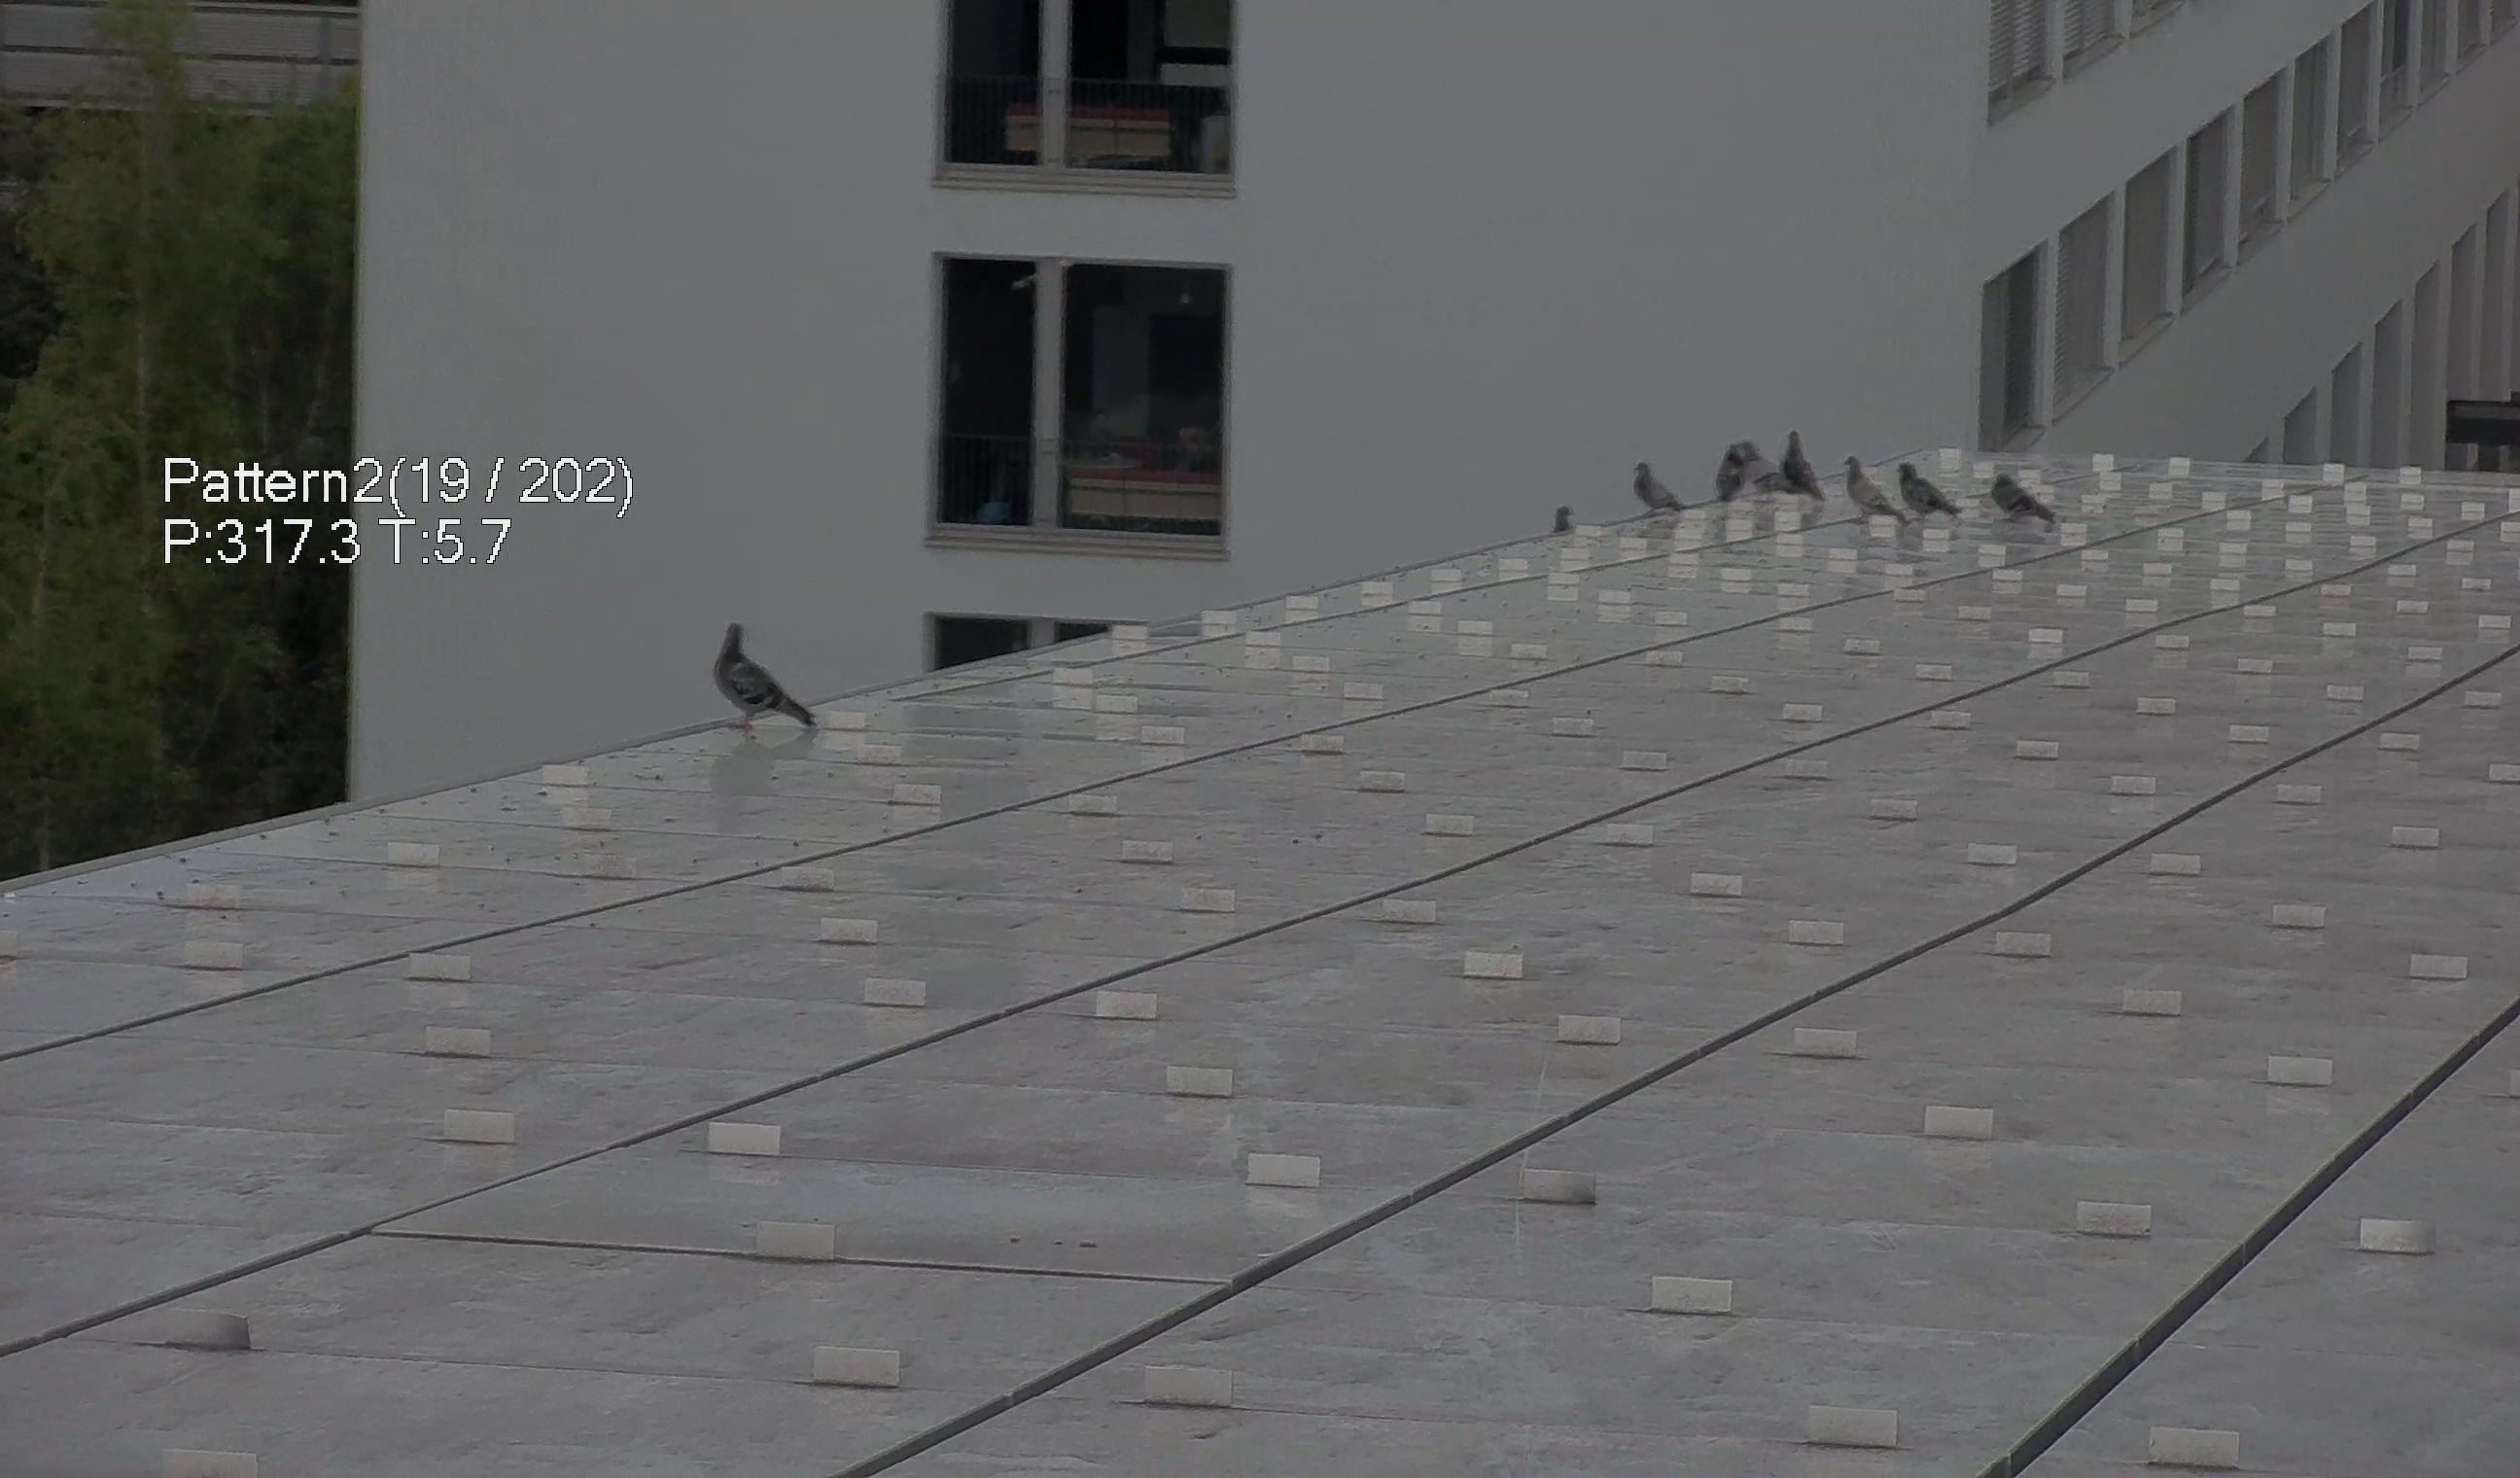Pigeon: (693, 611, 811, 743), (1841, 454, 1910, 528), (1894, 457, 1964, 526), (1985, 465, 2058, 530), (1767, 429, 1825, 509), (1732, 436, 1792, 496), (1708, 428, 1752, 503), (1627, 465, 1681, 516), (1544, 503, 1586, 544)
